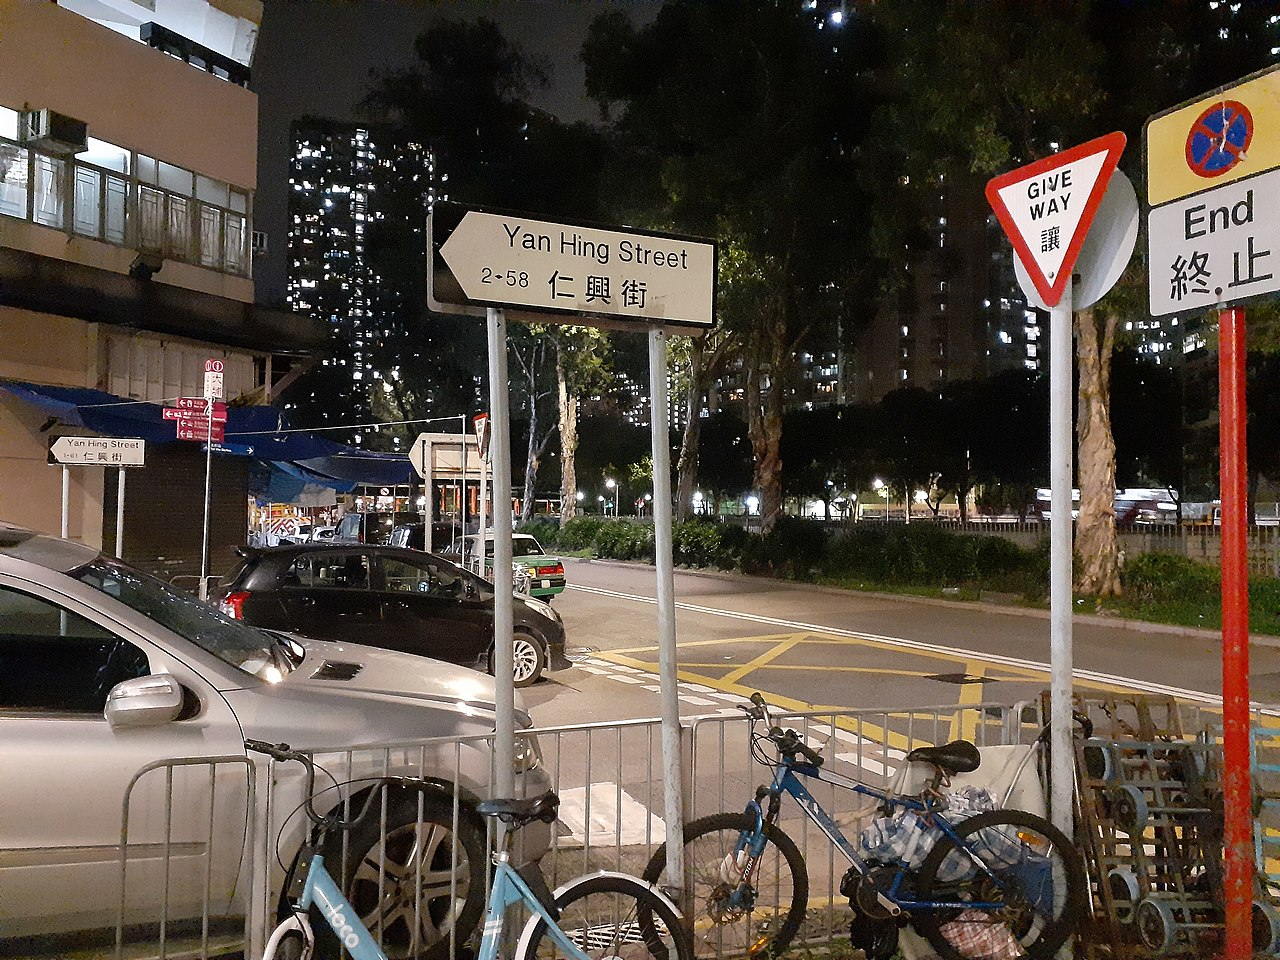End Of No Stopping: (1145, 58, 1280, 320)
Give Way: (970, 128, 1135, 301)
